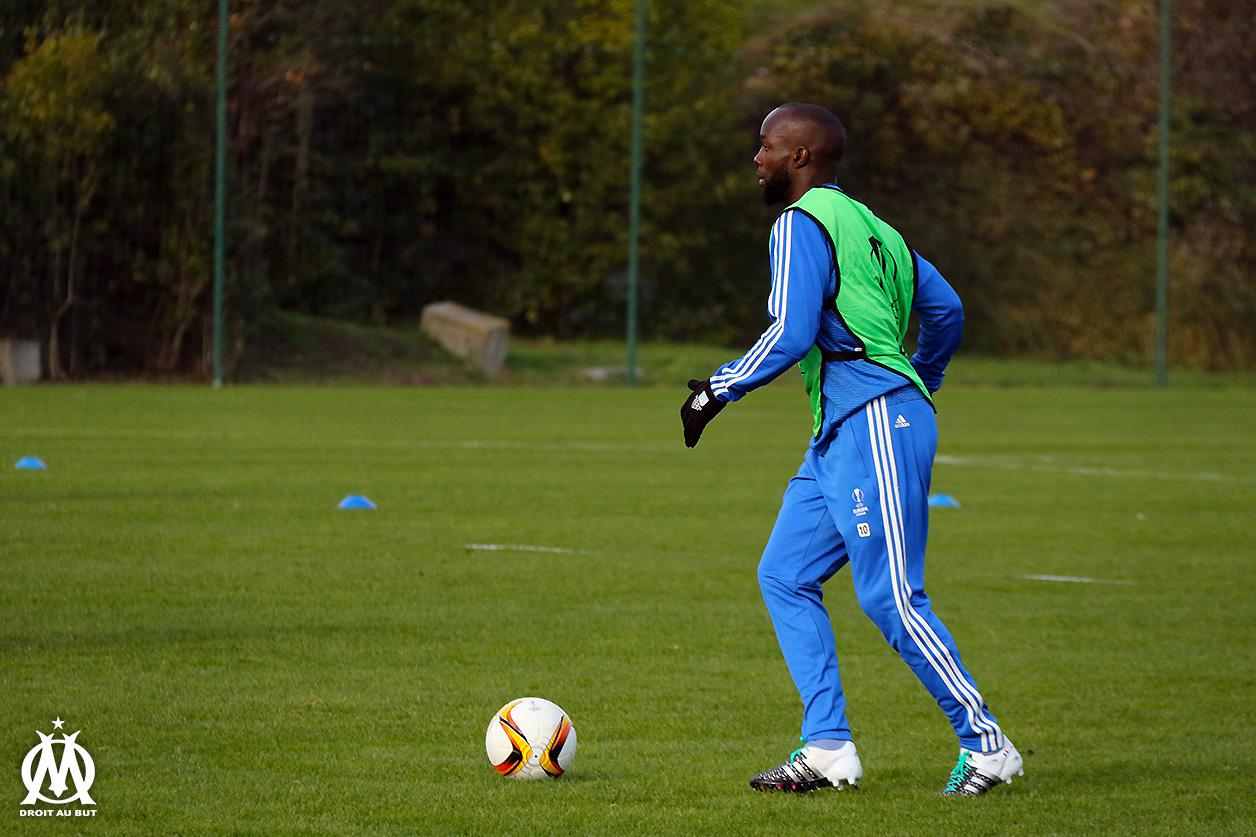football boots: (751, 741, 862, 795), (939, 728, 1024, 796)
